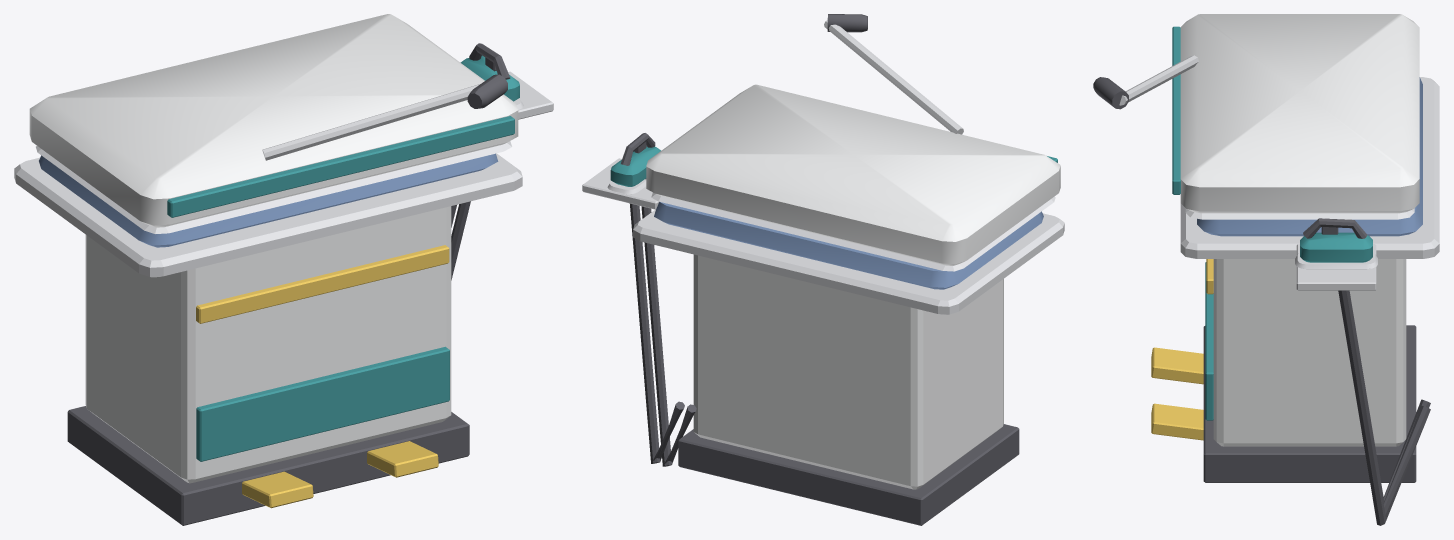
File: dry-cleaners-and-alterations-shop-pressing-station-1dda9bd2__34963.glb
The picture shows the model from 3 angles, left to right: view 1: azimuth 30°, elevation 25°; view 2: azimuth 150°, elevation 25°; view 3: azimuth 270°, elevation 25°; orthographic projection. The views are drawn at different scales.
Parts seen in each view (by area): view 1: pressing-station, press-head/panel, press-head/accent, press-head/metal, press-head/dark; view 2: pressing-station, press-head/panel, press-head/metal, press-head/dark; view 3: pressing-station, press-head/panel, press-head/metal, press-head/accent, press-head/dark.
Boxes of the visible parts, x1,y1,x2,y2 form: pressing-station: (14,43,553,525); press-head/panel: (29,14,518,227); press-head/accent: (167,116,514,217); press-head/metal: (36,84,511,233); press-head/dark: (467,74,507,108); pressing-station: (582,133,1064,525); press-head/panel: (646,84,1060,265); press-head/metal: (651,20,1055,271); press-head/dark: (827,14,867,32); pressing-station: (1151,77,1439,525); press-head/panel: (1180,14,1419,213); press-head/metal: (1119,55,1414,219); press-head/accent: (1172,26,1180,194); press-head/dark: (1093,77,1128,109).
Size of the model in its own units: 1.5 by 1.35 by 1.04.
